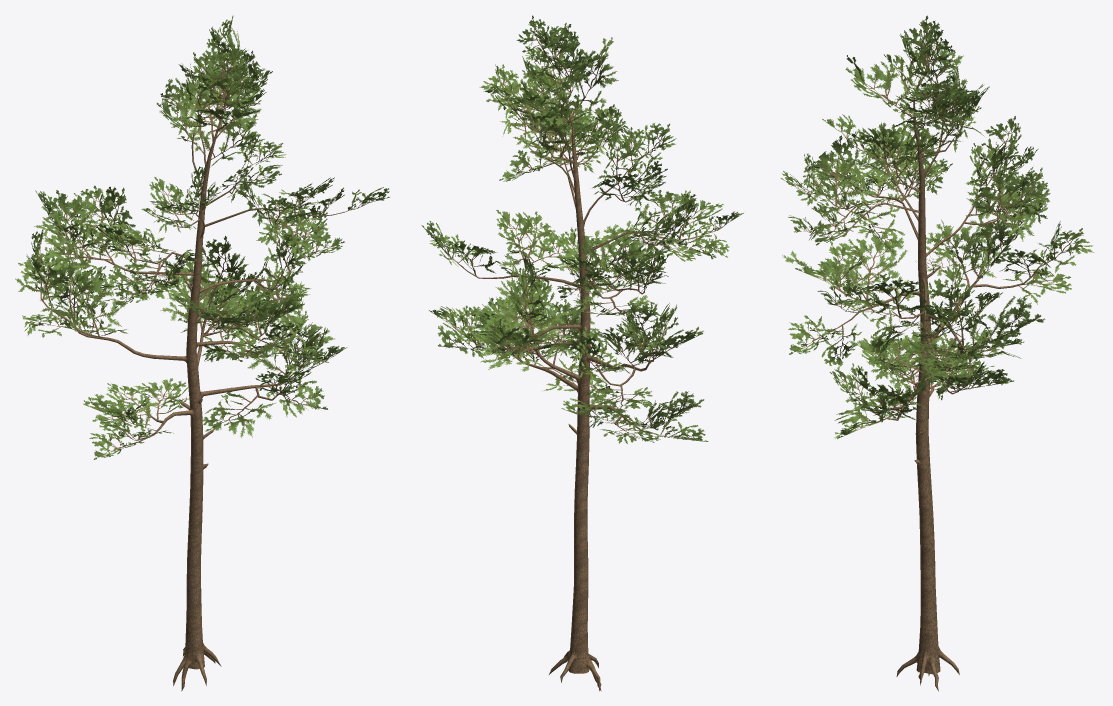
The picture shows the model from 3 angles, left to right: view 1: azimuth 30°, elevation 25°; view 2: azimuth 150°, elevation 25°; view 3: azimuth 270°, elevation 25°; orthographic projection. The views are drawn at different scales.
Parts seen in each view (by area): view 1: Pine_big_3_LOD0_Bark_Mat_0; view 2: Pine_big_3_LOD0_Bark_Mat_0; view 3: Pine_big_3_LOD0_Bark_Mat_0.
Part boxes in pixels (x1,y1,x2,y2): Pine_big_3_LOD0_Bark_Mat_0: [15, 15, 389, 691]; Pine_big_3_LOD0_Bark_Mat_0: [421, 15, 743, 691]; Pine_big_3_LOD0_Bark_Mat_0: [780, 15, 1094, 691].
Bounding box in the file's own units: 8.85 × 19.57 × 8.36.
